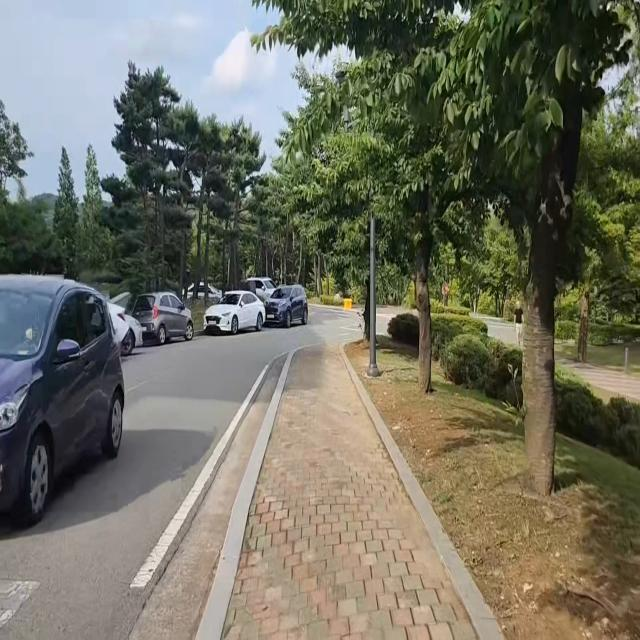obstacle: (0, 272, 130, 553), (201, 275, 311, 339), (129, 289, 194, 350)
road: (0, 326, 327, 640)
sidewalk: (194, 346, 507, 640)
